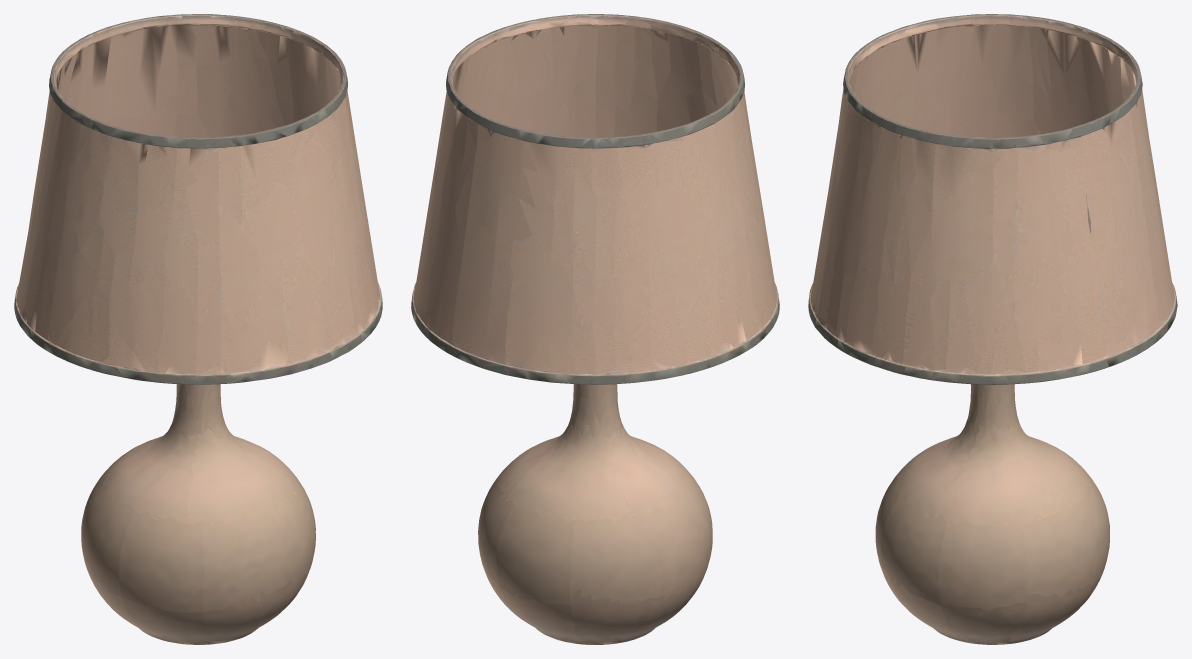
The model's file is lamp.glb.
The picture shows the model from 3 angles, left to right: view 1: azimuth 30°, elevation 25°; view 2: azimuth 150°, elevation 25°; view 3: azimuth 270°, elevation 25°; orthographic projection.
Bounding box in the file's own units: 1.17 × 1.9 × 1.18.
Materials: 1 (1 with a texture image).
